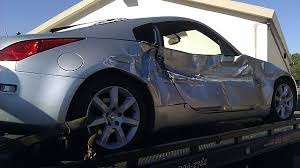Smashed: (127, 49, 261, 97)
